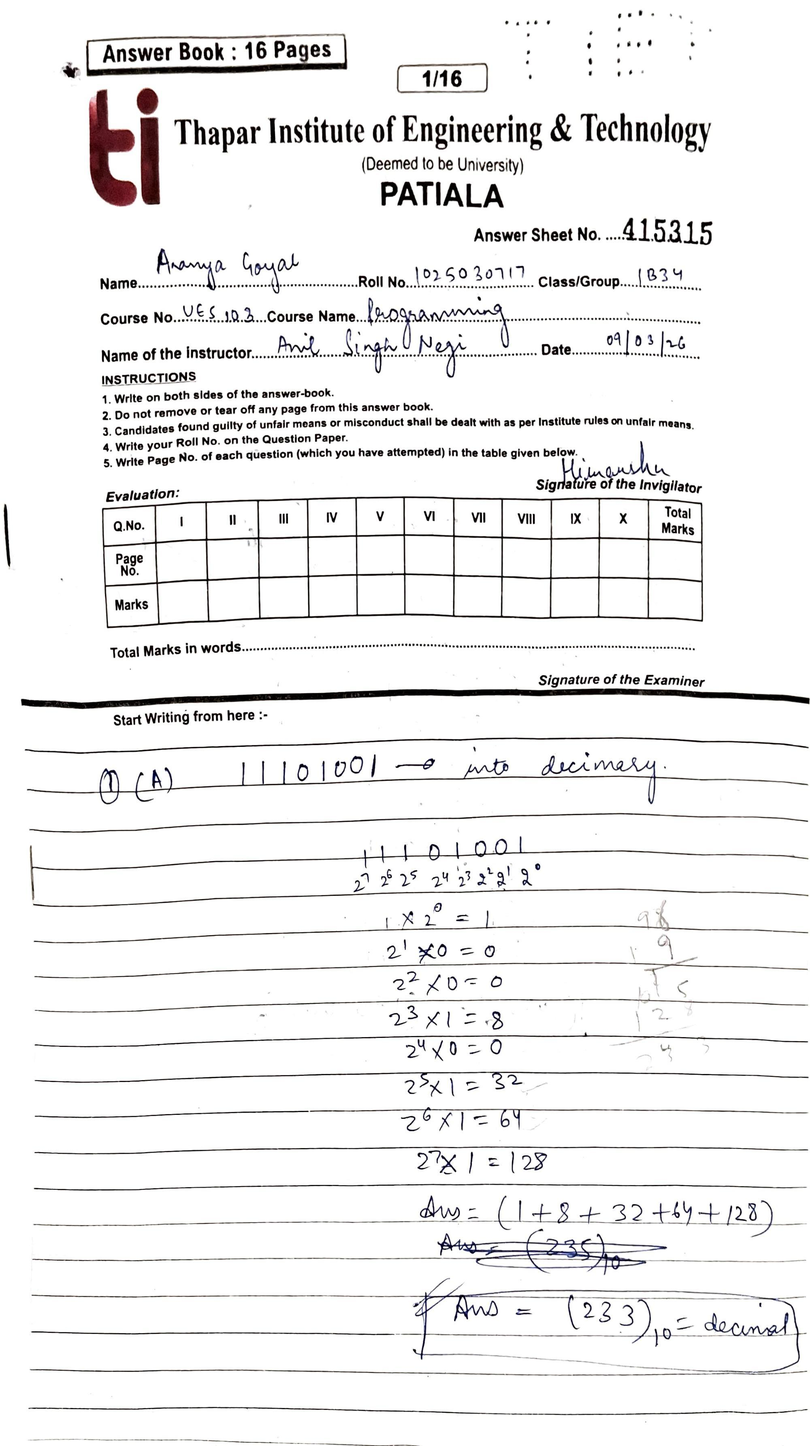cuttings: (438, 1228, 672, 1274)
